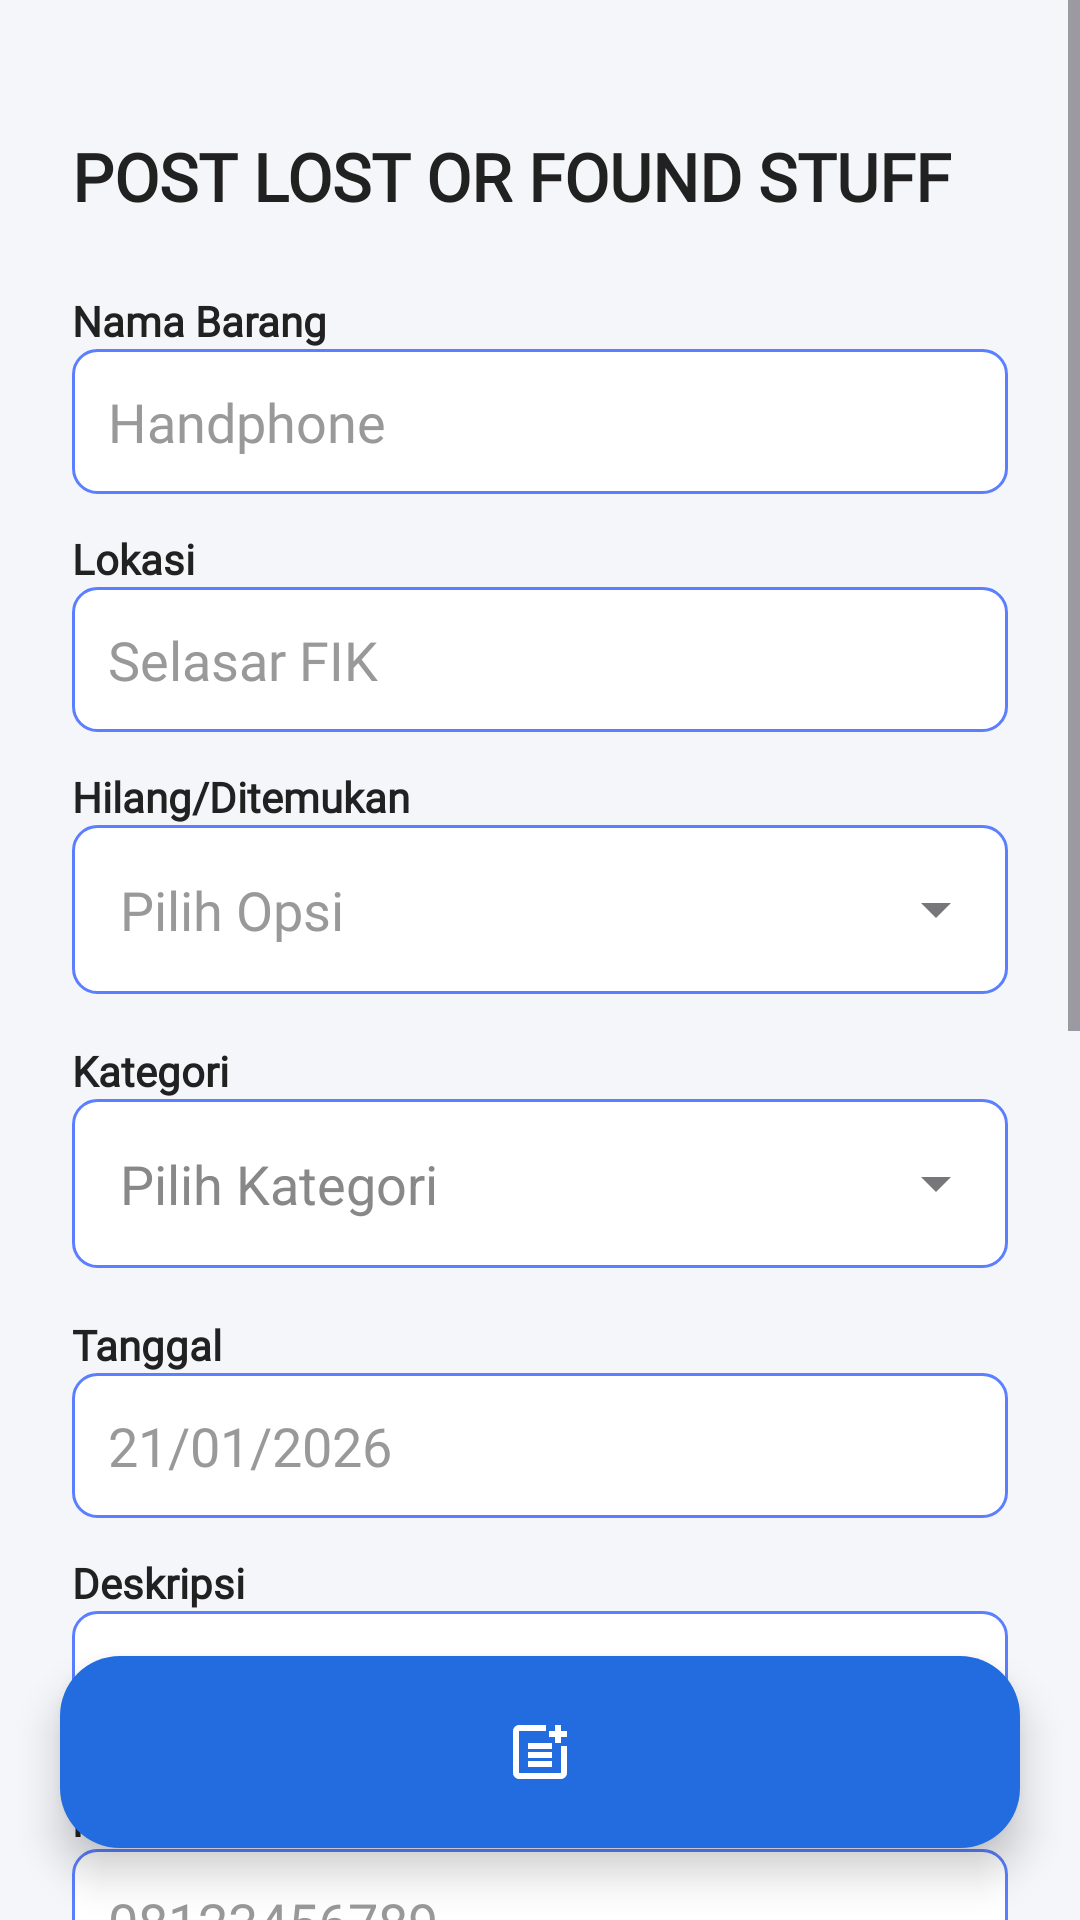

Point at icon controls on the screen. Image size 1080x1920, points as (x,y).
Add Post: (540,1752)
